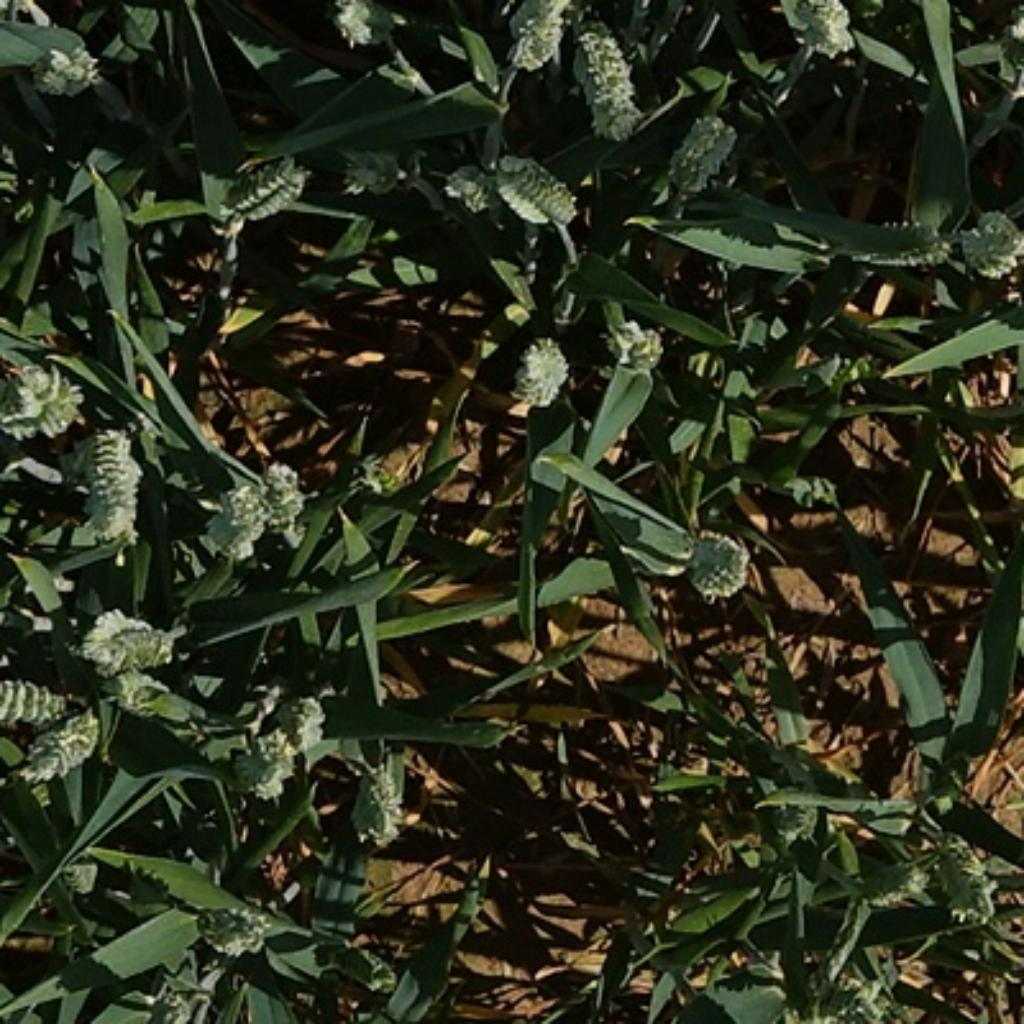0-0: (565, 0, 645, 143), (760, 760, 855, 875), (2, 348, 97, 448), (71, 419, 148, 542), (763, 963, 915, 1024), (74, 599, 184, 683), (911, 824, 1003, 924), (657, 99, 747, 194), (491, 138, 583, 227), (215, 153, 320, 230), (17, 706, 112, 788), (217, 709, 304, 798), (327, 913, 407, 1003), (673, 517, 757, 599), (337, 130, 435, 197), (345, 747, 412, 844), (184, 890, 271, 960), (949, 199, 1024, 279), (202, 481, 276, 558), (837, 222, 947, 273), (496, 0, 573, 71), (509, 330, 578, 407), (40, 839, 117, 906), (25, 35, 104, 97), (599, 312, 673, 378), (2, 678, 84, 737), (92, 670, 184, 721), (780, 0, 860, 56), (276, 683, 330, 760), (442, 156, 494, 220), (263, 455, 302, 537), (325, 0, 396, 43)
